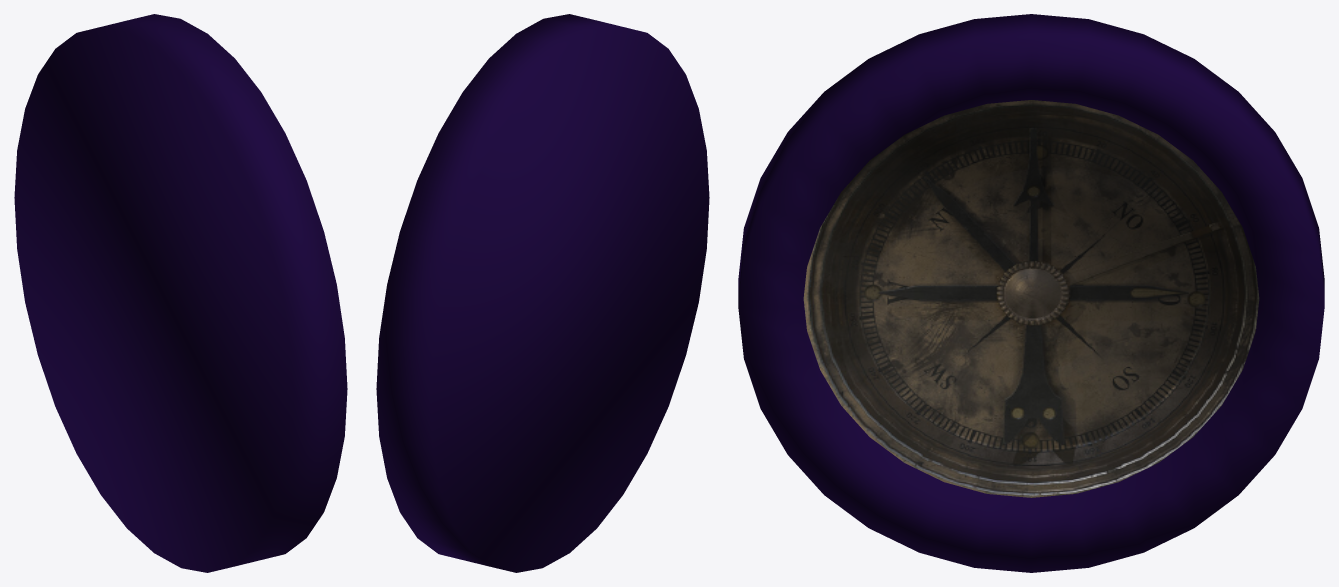
3 renders of one model, left to right at view 1: azimuth 30°, elevation 25°; view 2: azimuth 150°, elevation 25°; view 3: azimuth 270°, elevation 25°, orthographic. The views are drawn at different scales.
Parts seen in each view (by area): view 1: Circle; view 2: Circle; view 3: Circle.
Part boxes in pixels (x1=…): Circle: x1=14, y1=14, x2=347, y2=572; Circle: x1=376, y1=14, x2=709, y2=572; Circle: x1=738, y1=14, x2=1324, y2=572.
Bounding box in the file's own units: 0.2224 × 2 × 2.
2 materials, 1 textured.
